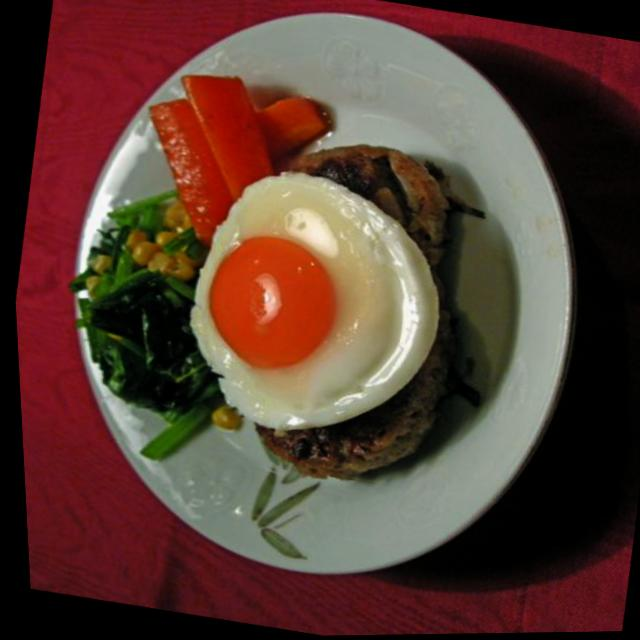蔬菜料理: (59, 265, 240, 447)
鸡蛋料理: (177, 153, 405, 434)
